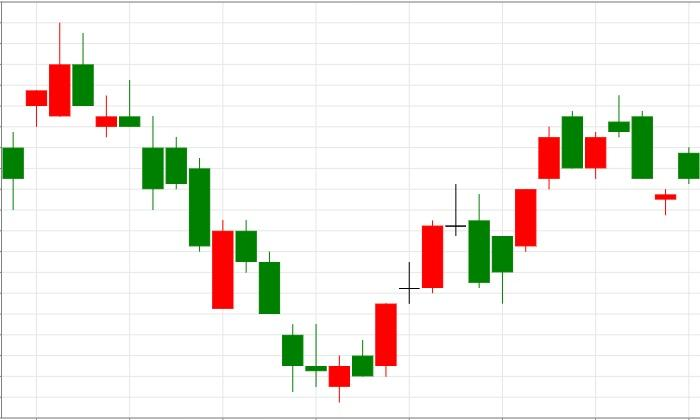evening_star_fall: (329, 184, 490, 402)
